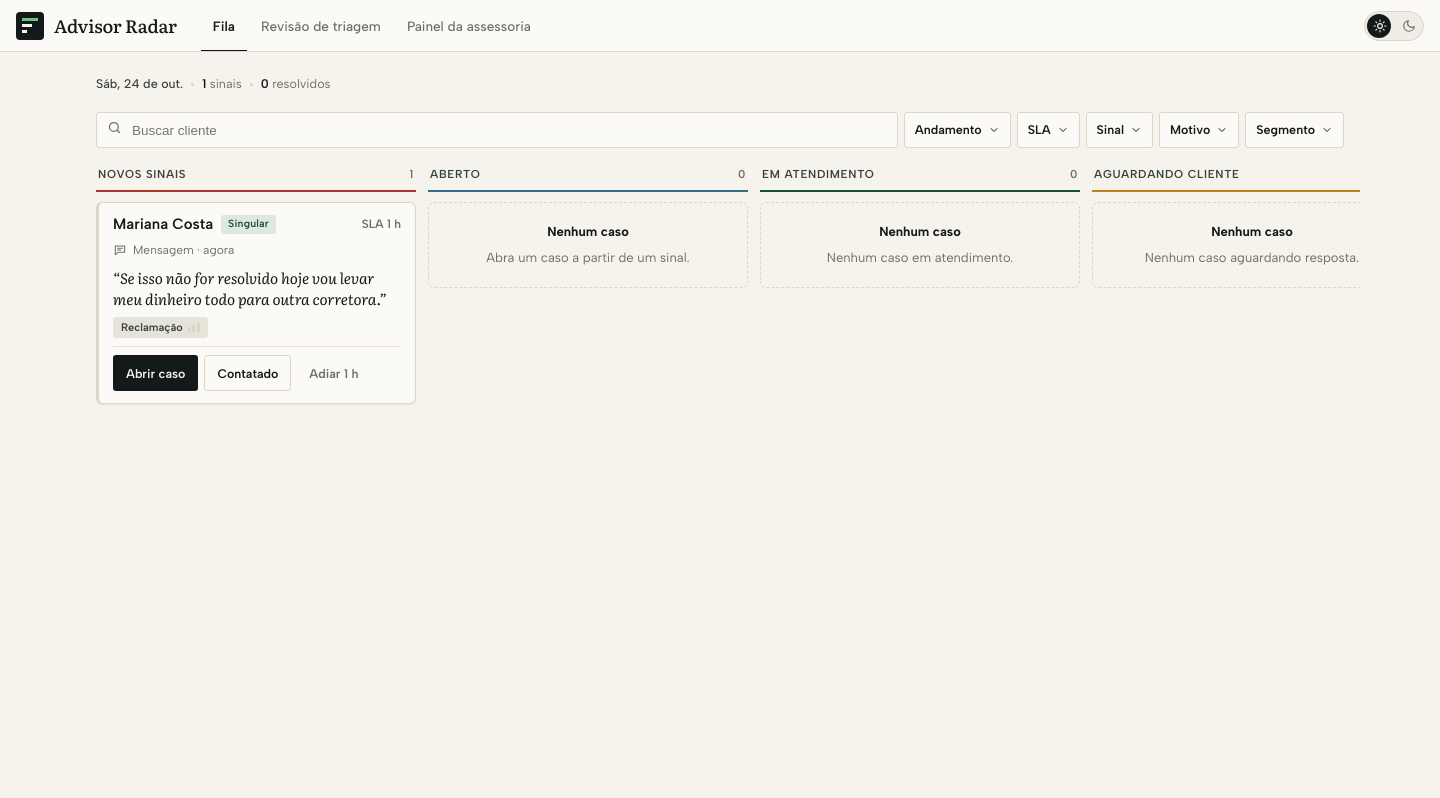
ReviewScreen › returns to the advisor queue when persona navigates back to Fila
Check: the text "Novos sinais" is shown, box [98, 166, 186, 182]
Click the link "Revisão de triagem" at (321, 26), box [249, 0, 393, 52]
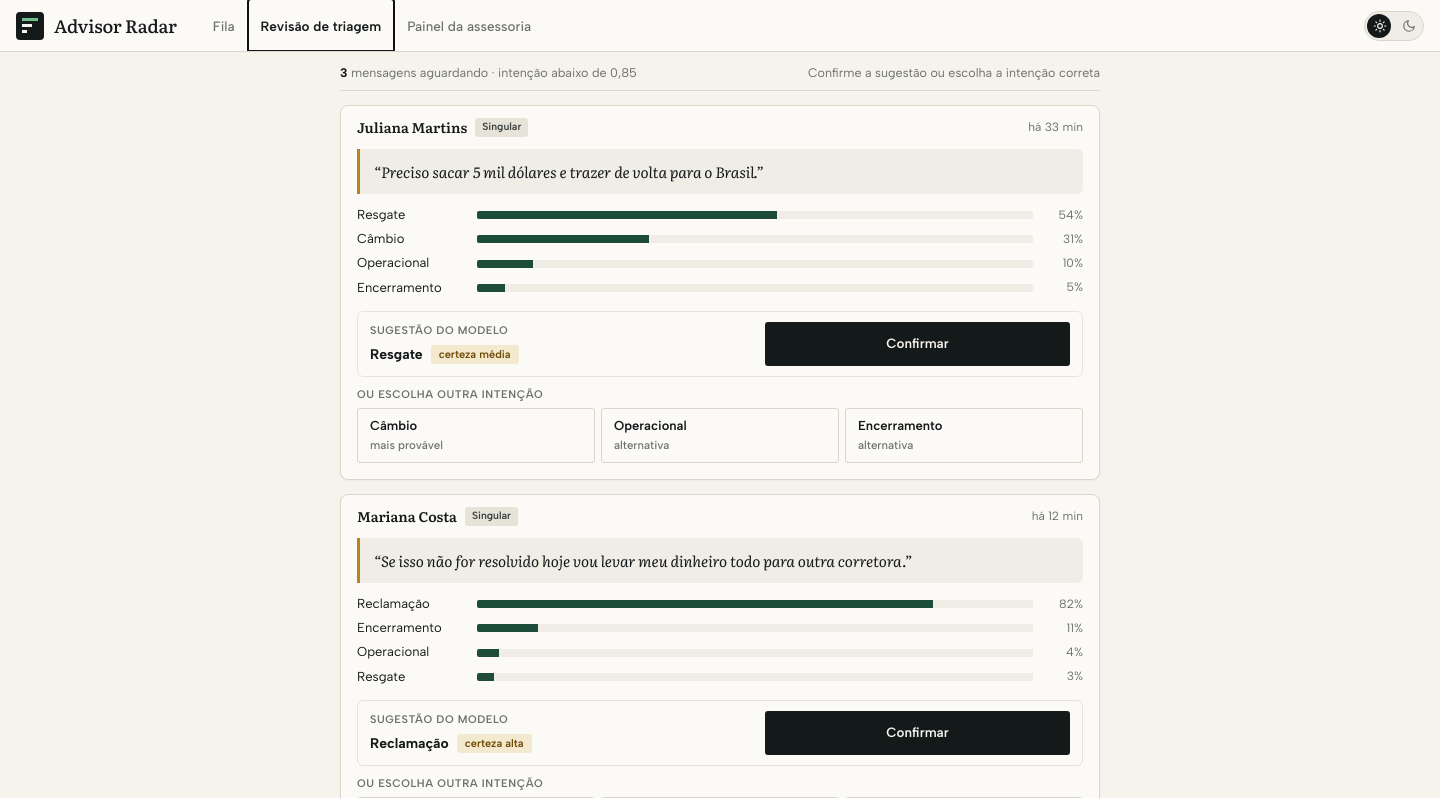
Check: the text "Novos sinais" is gone
Click the link "Painel da assessoria" at (469, 26), box [395, 0, 543, 52]
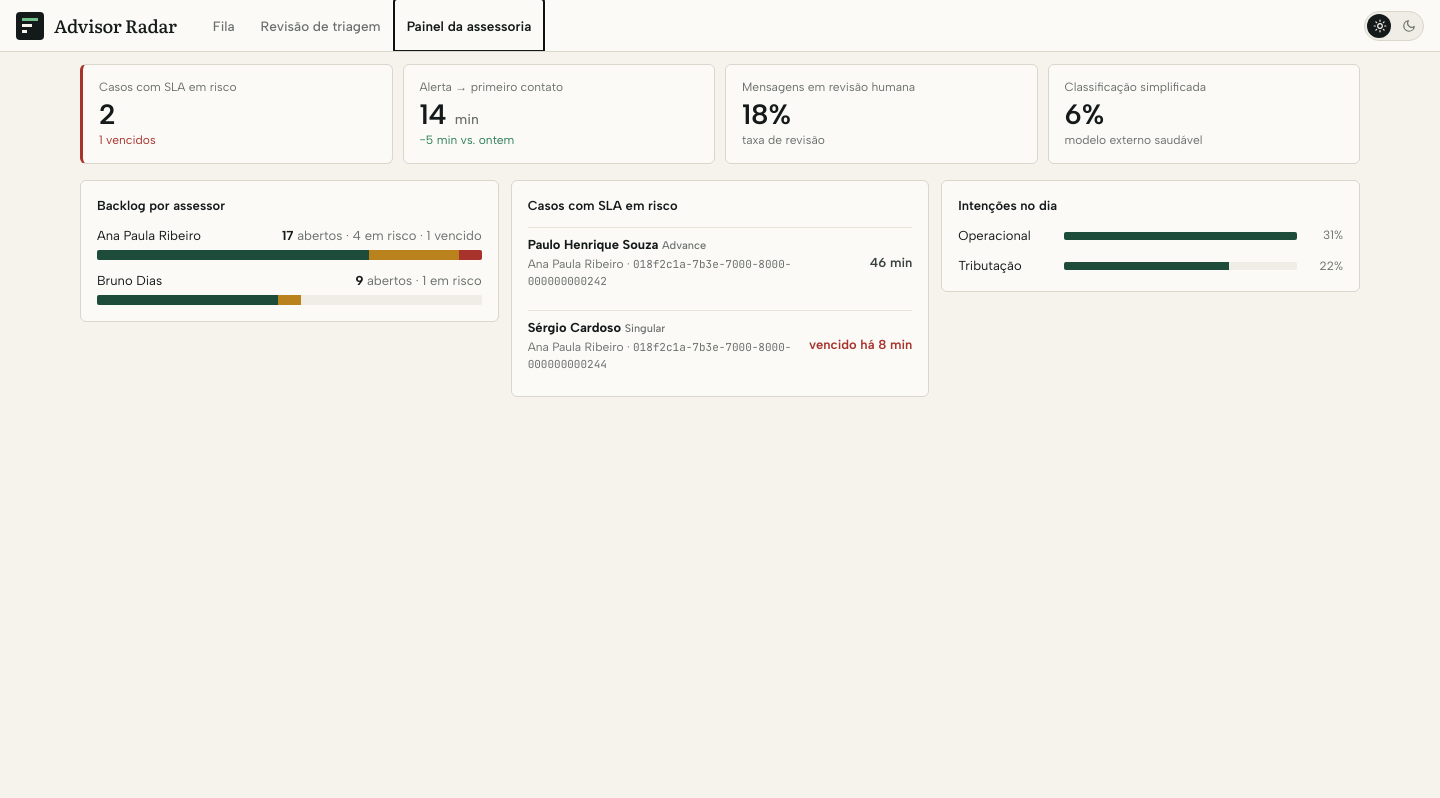
Check: the element with test id "backlog-Ana Paula Ribeiro" is shown, box [97, 227, 482, 260]
Check: the text "6%" is shown, box [1064, 97, 1104, 131]
Click the link "Fila" at (224, 26), box [201, 0, 247, 52]
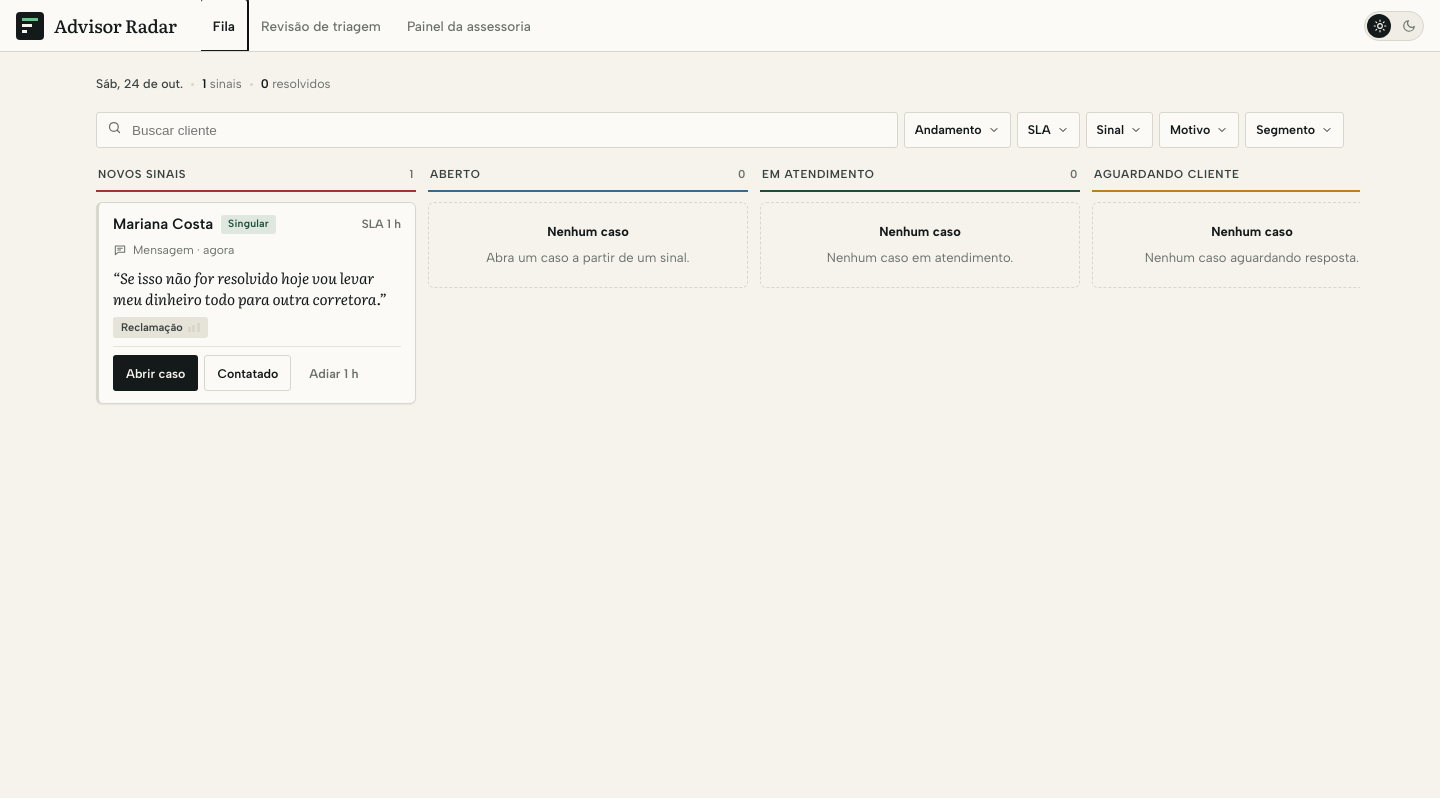
Check: the text "Novos sinais" is shown, box [98, 166, 186, 182]
